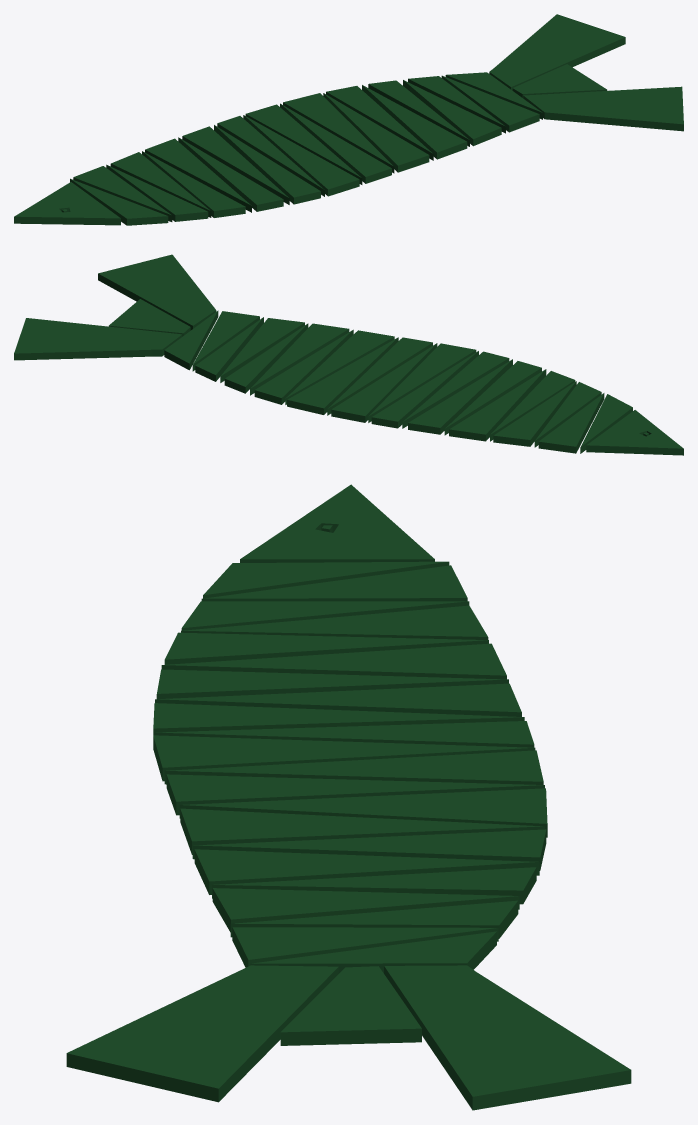
File: сраная рыба.fbx
3 renders of one model, top to bottom at view 1: azimuth 30°, elevation 25°; view 2: azimuth 150°, elevation 25°; view 3: azimuth 270°, elevation 25°, orthographic. The views are drawn at different scales.
Visible parts, largest first — view 1: Plane.001; view 2: Plane.001; view 3: Plane.001.
Boxes of the visible parts, x1,y1,x2,y2 form: Plane.001: (14, 14, 683, 225); Plane.001: (14, 254, 683, 455); Plane.001: (66, 484, 631, 1110).
Size of the model in its own units: 578 by 6.02 by 226.
